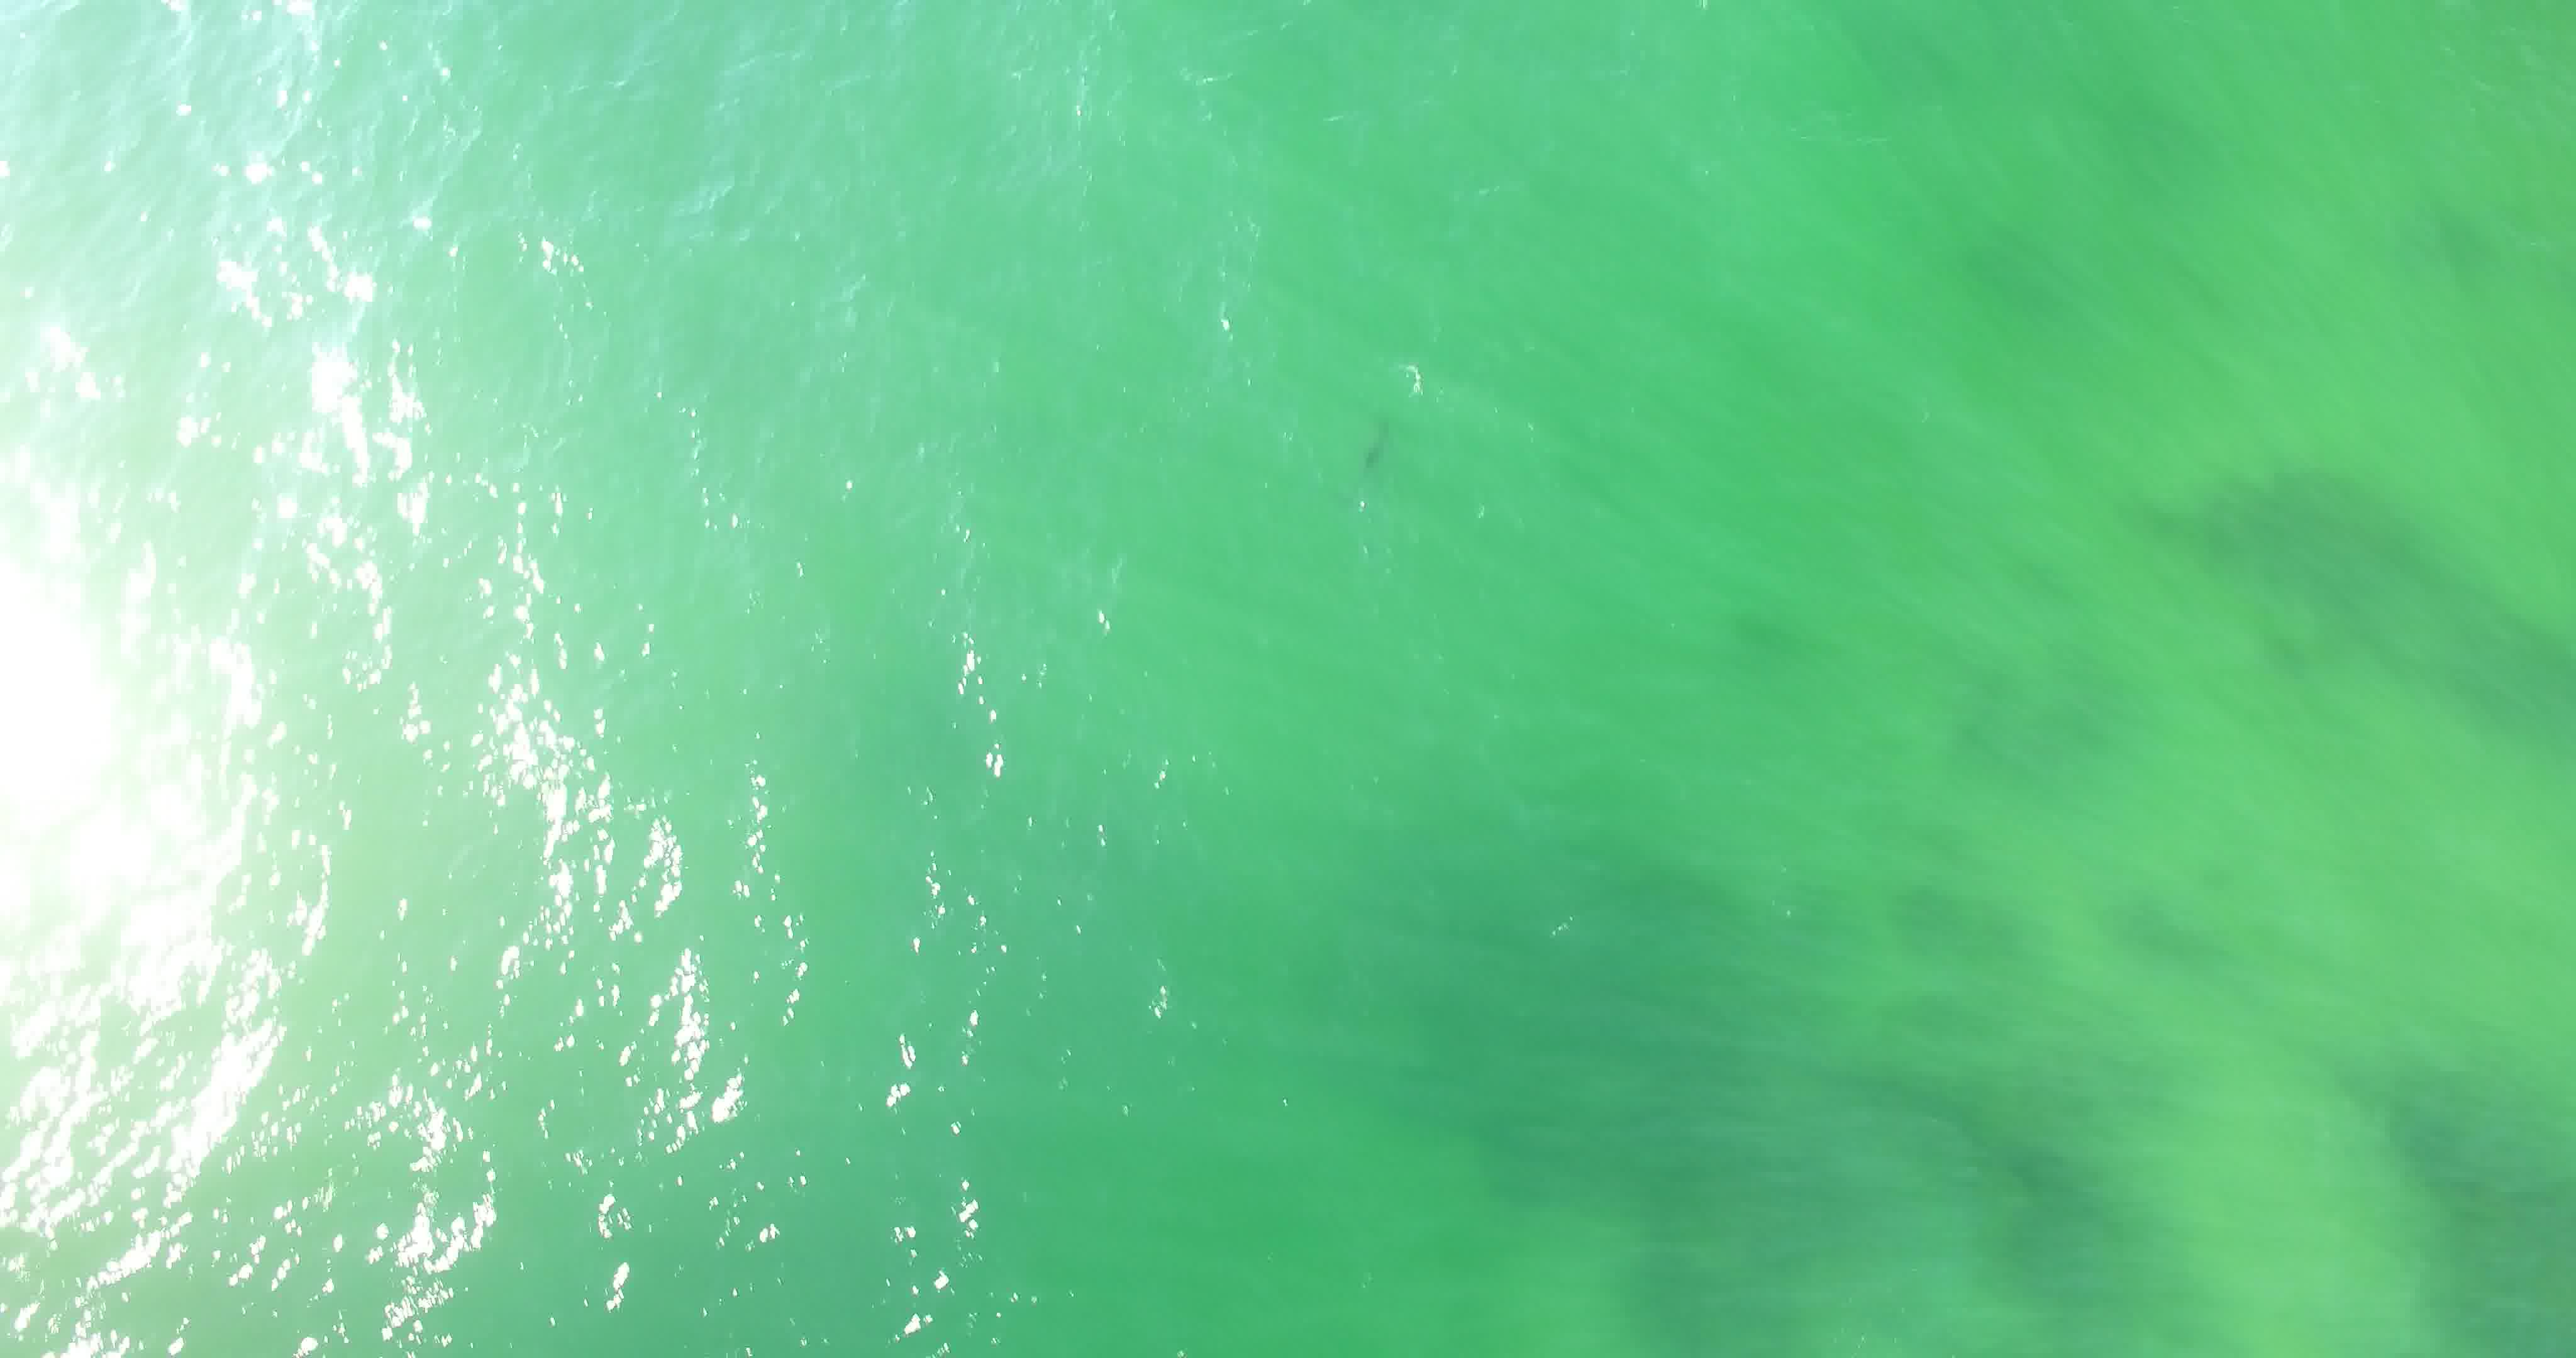dolphin: (1334, 366, 1424, 515)
